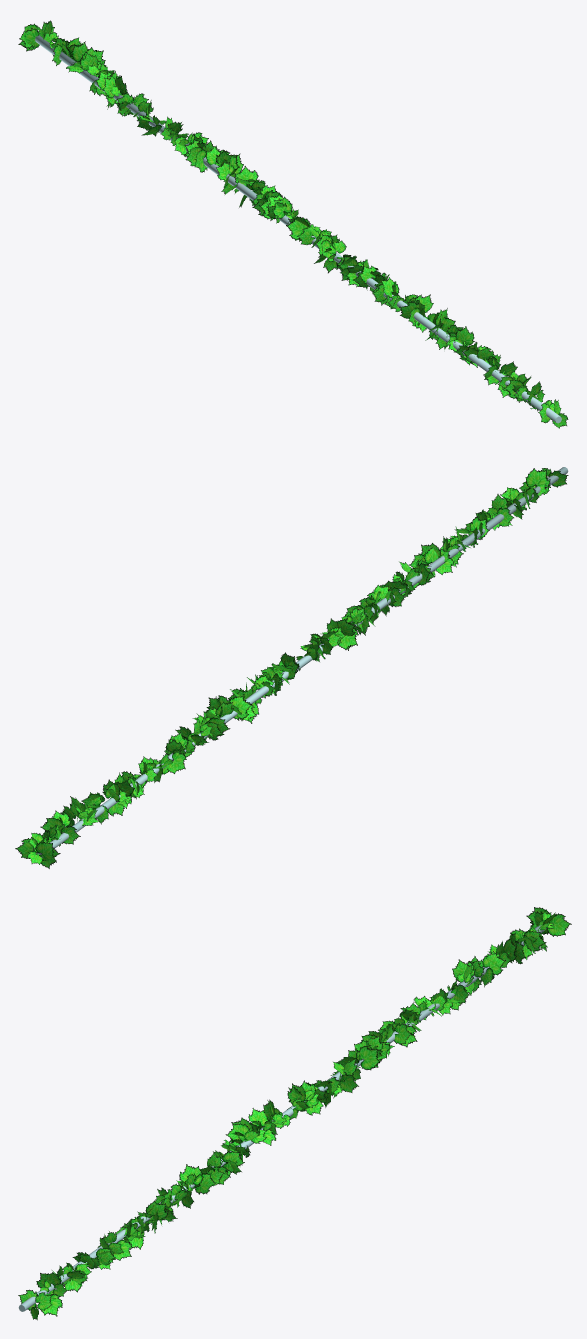
Rendered from vinedBar.fbx.
The picture shows the model from 3 angles, top to bottom: view 1: azimuth 30°, elevation 25°; view 2: azimuth 150°, elevation 25°; view 3: azimuth 330°, elevation 25°; orthographic projection.
Parts seen in each view (by area): view 1: VineOnBar, VinedBar; view 2: VineOnBar, VinedBar; view 3: VineOnBar, VinedBar.
Boxes of the visible parts, x1=… form: VineOnBar: x1=18, y1=20, x2=568, y2=428; VinedBar: x1=35, y1=35, x2=561, y2=423; VineOnBar: x1=15, y1=468, x2=568, y2=868; VinedBar: x1=36, y1=467, x2=568, y2=857; VineOnBar: x1=18, y1=907, x2=571, y2=1320; VinedBar: x1=18, y1=925, x2=547, y2=1311.
Bounding box in the file's own units: 23.29 × 407 × 21.15.
